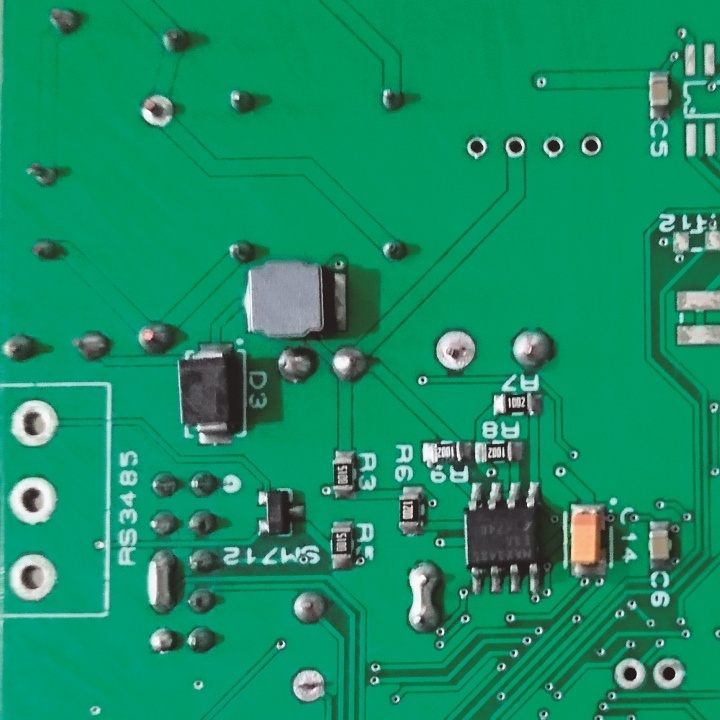F: (5, 394, 61, 449), (6, 475, 61, 529), (7, 550, 62, 604), (433, 327, 478, 375), (136, 88, 179, 132), (287, 666, 330, 706), (610, 656, 646, 692), (652, 655, 687, 692), (577, 128, 605, 162), (538, 132, 570, 161), (499, 132, 527, 161), (464, 132, 487, 162)
P: (141, 543, 178, 619), (404, 560, 441, 634)
